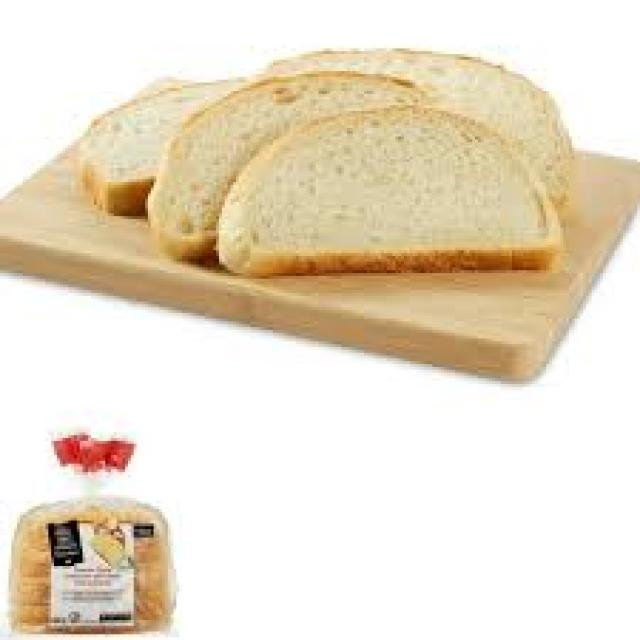Bread: (220, 105, 562, 276), (148, 71, 421, 263), (268, 49, 571, 206), (79, 80, 241, 216)
